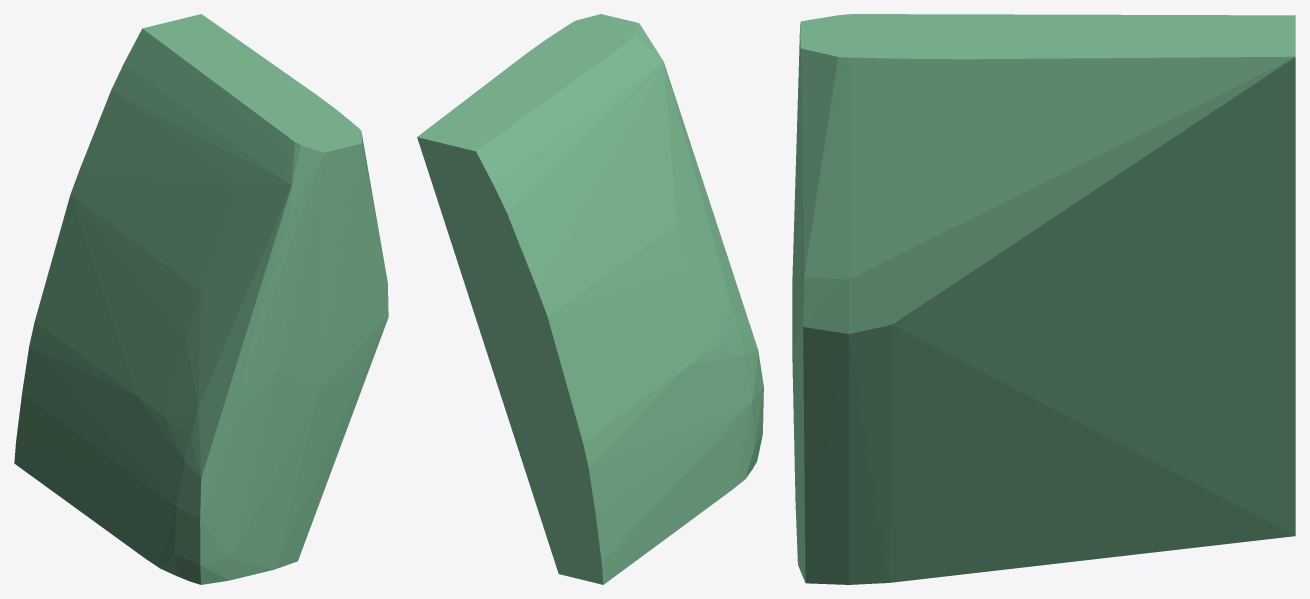
Rendered from left-shoulder-pitch-0_part_39.obj.
3 renders of one model, left to right at view 1: azimuth 30°, elevation 25°; view 2: azimuth 150°, elevation 25°; view 3: azimuth 270°, elevation 25°, orthographic. The views are drawn at different scales.
Size of the model in its own units: 0.00922 by 0.0174 by 0.0137.
